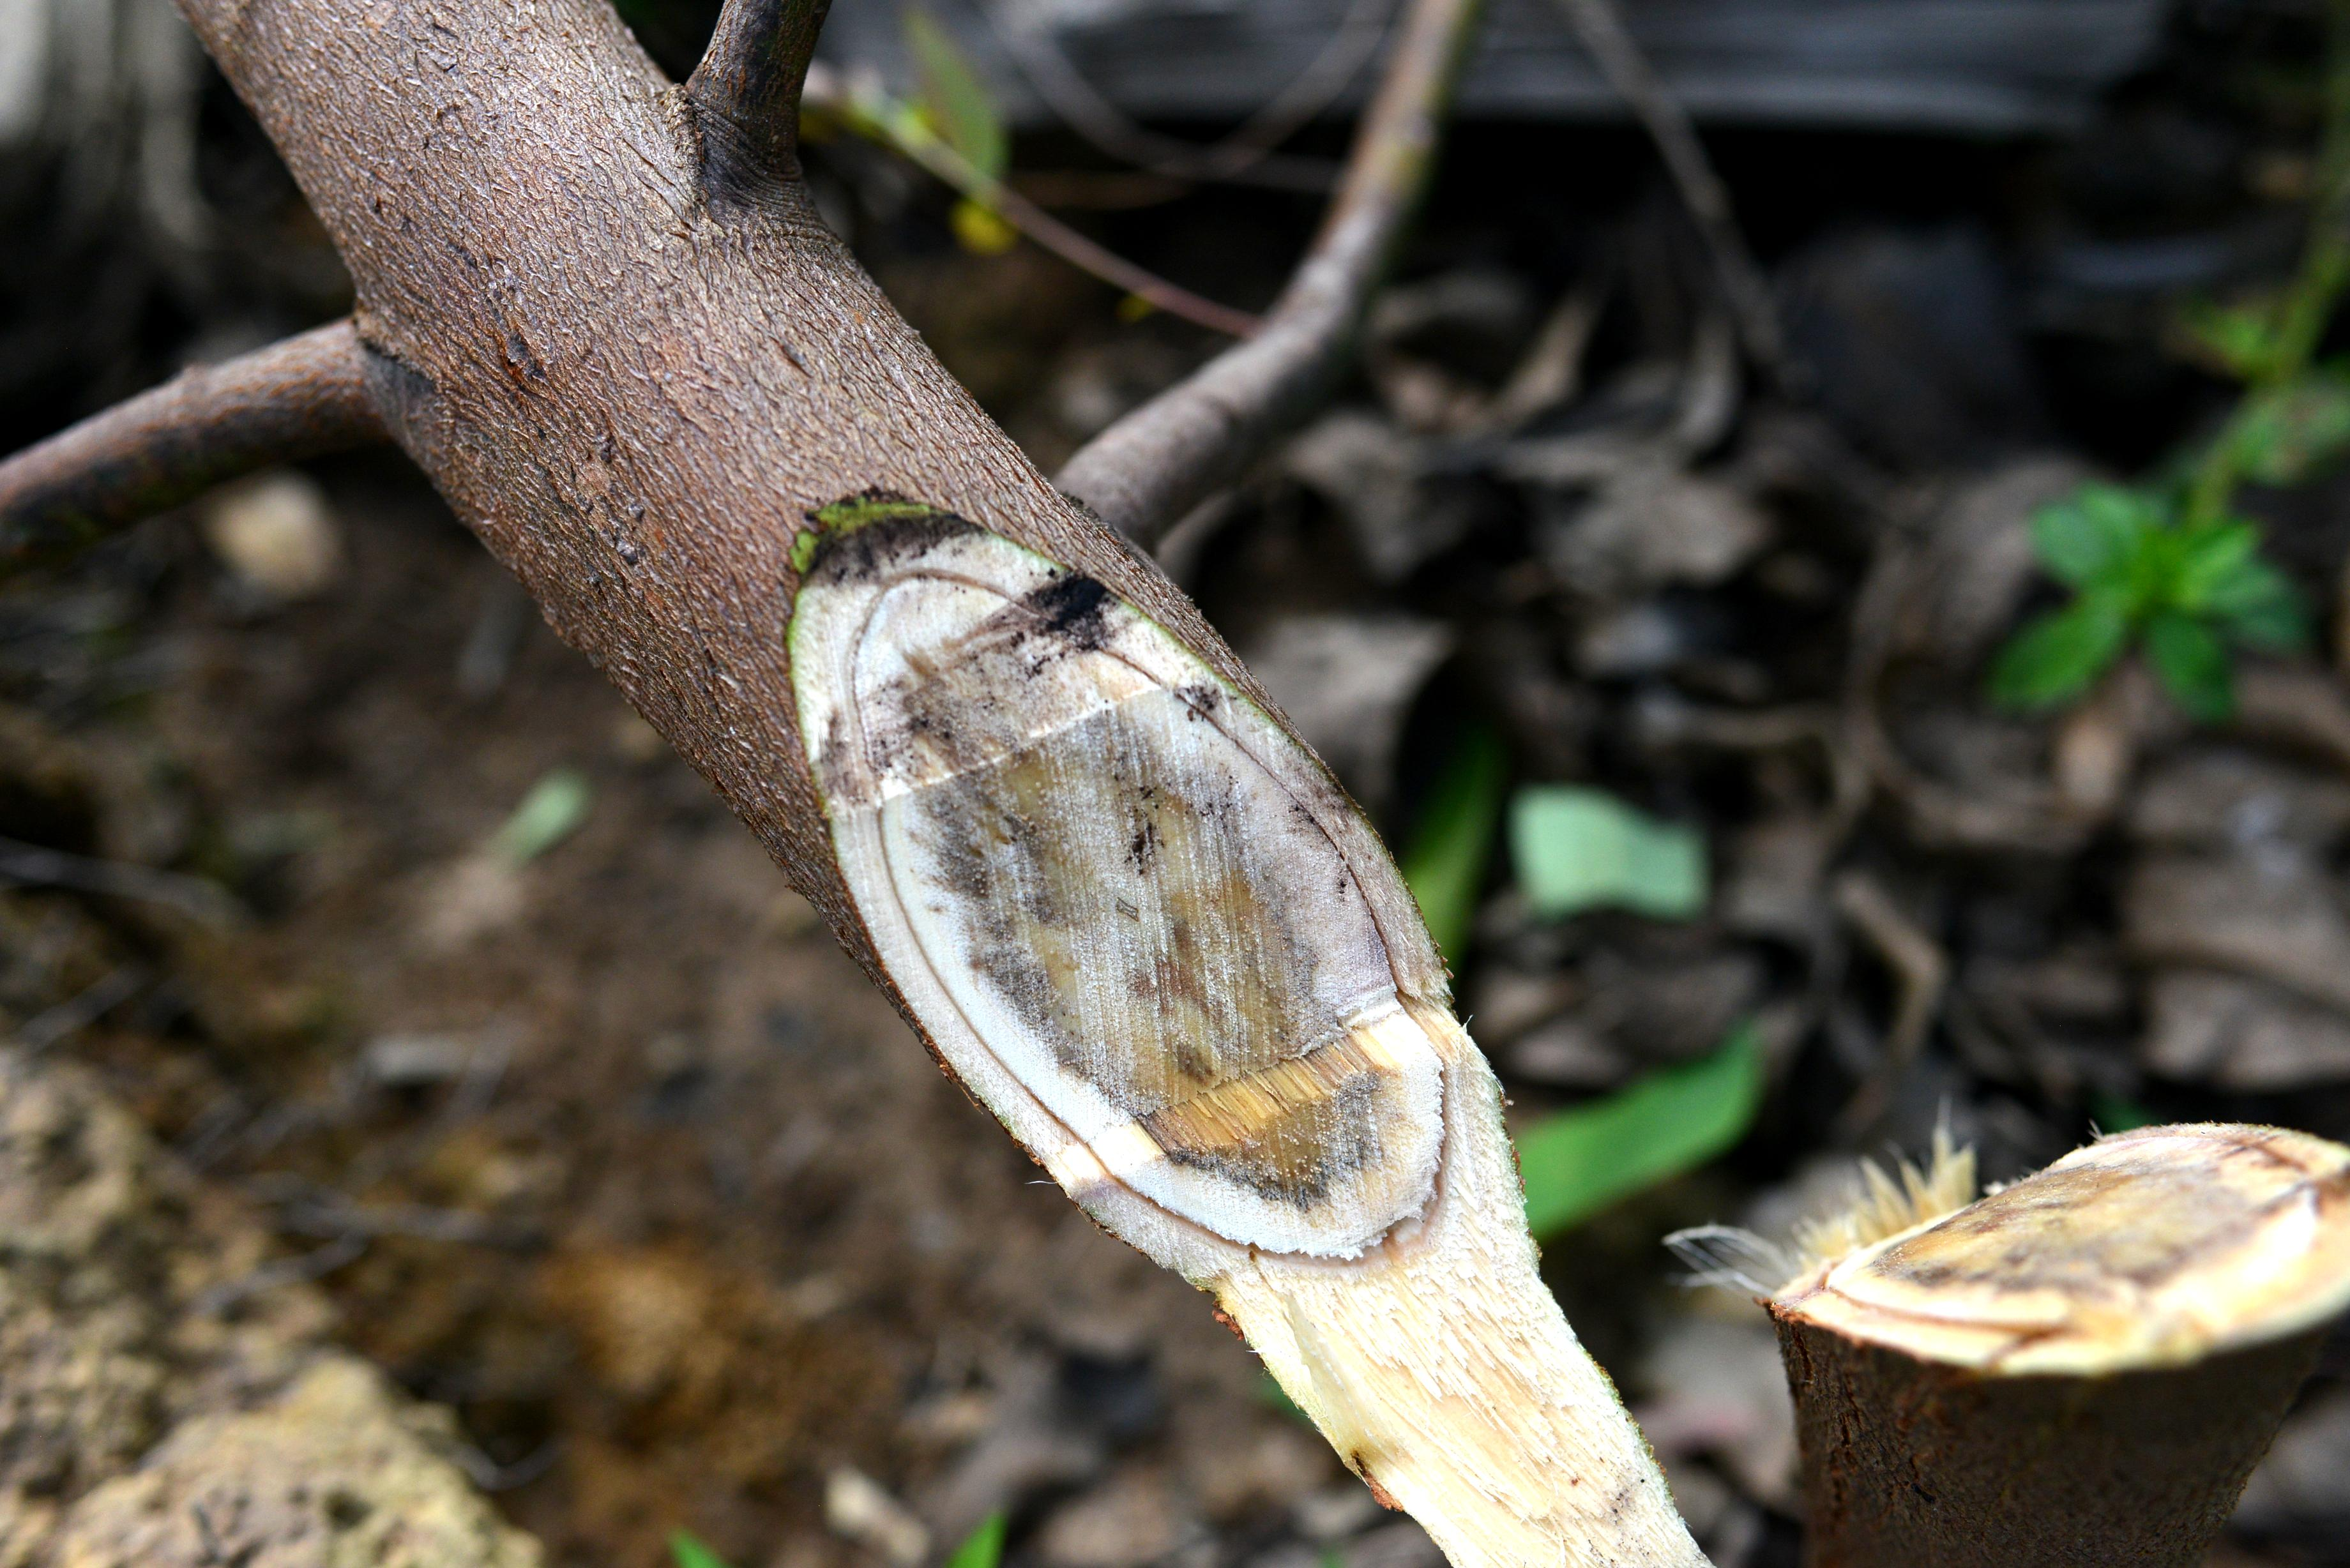Ralstonia: (905, 661, 1458, 1267)
